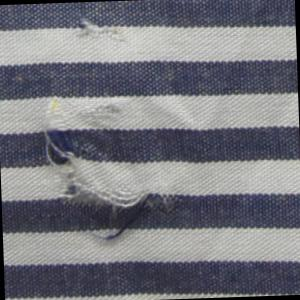Damage: (38, 86, 188, 250), (72, 14, 141, 53)
